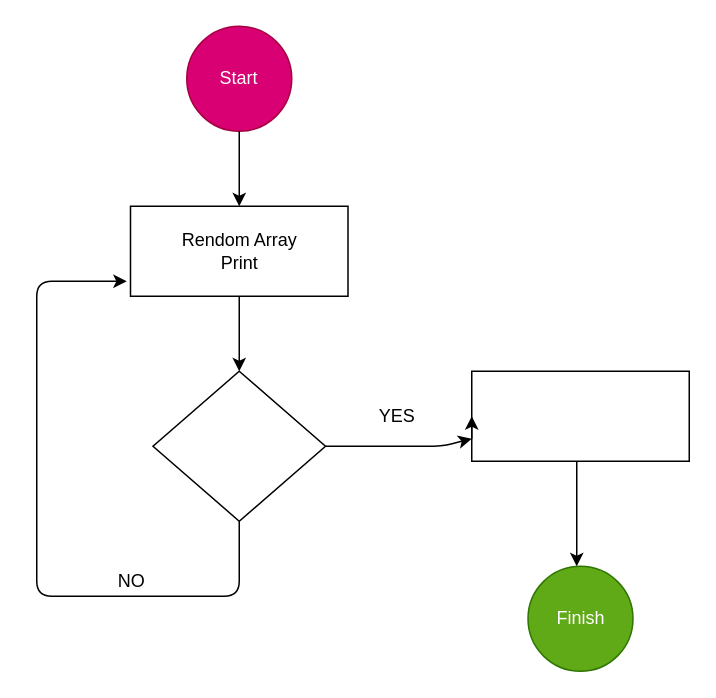
This 716x698 diagram has some shape labels left out. Here are the shapes that lost their labels. From the top down, the centre of each, then its label:
the point at 579,415: NEW Array Print
the point at 239,445: if Array %2==0
